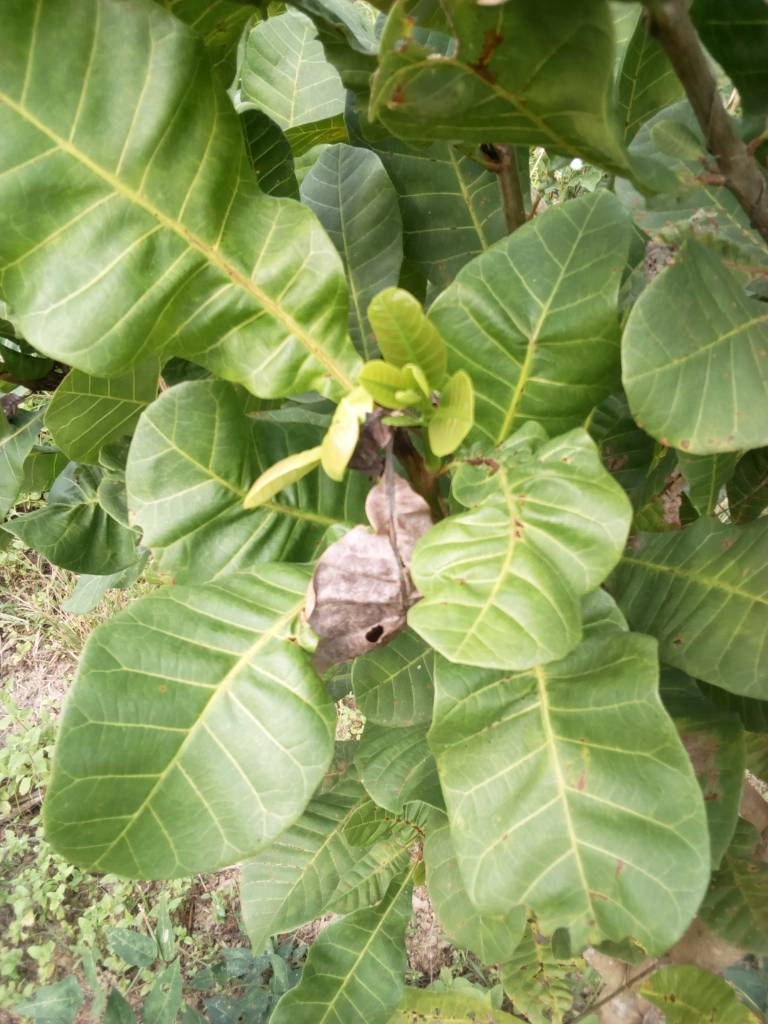Dessèchement des bourgeons: (375, 429, 433, 563)
